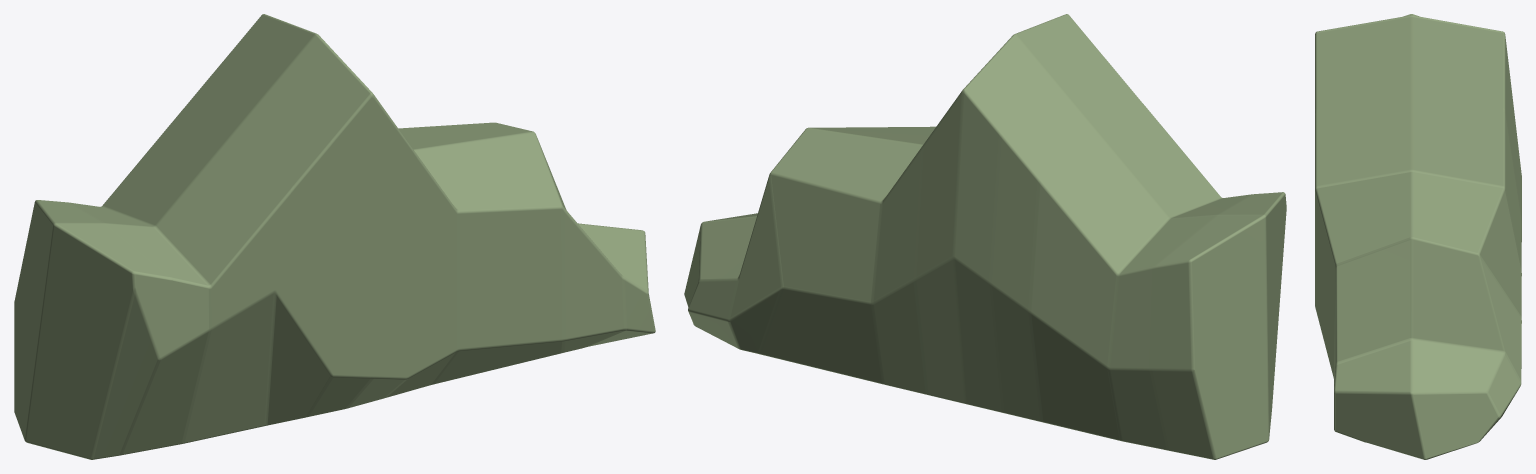
The model's file is Bush2.fbx.
3 renders of one model, left to right at view 1: azimuth 30°, elevation 25°; view 2: azimuth 150°, elevation 25°; view 3: azimuth 270°, elevation 25°, orthographic. The views are drawn at different scales.
Visible parts, largest first — view 1: Bush2; view 2: Bush2; view 3: Bush2.
Boxes of the visible parts, x1=… form: Bush2: x1=14, y1=14, x2=655, y2=459; Bush2: x1=684, y1=14, x2=1286, y2=459; Bush2: x1=1315, y1=14, x2=1521, y2=459.
Size of the model in its own units: 2.18 by 1.2 by 0.7338.
